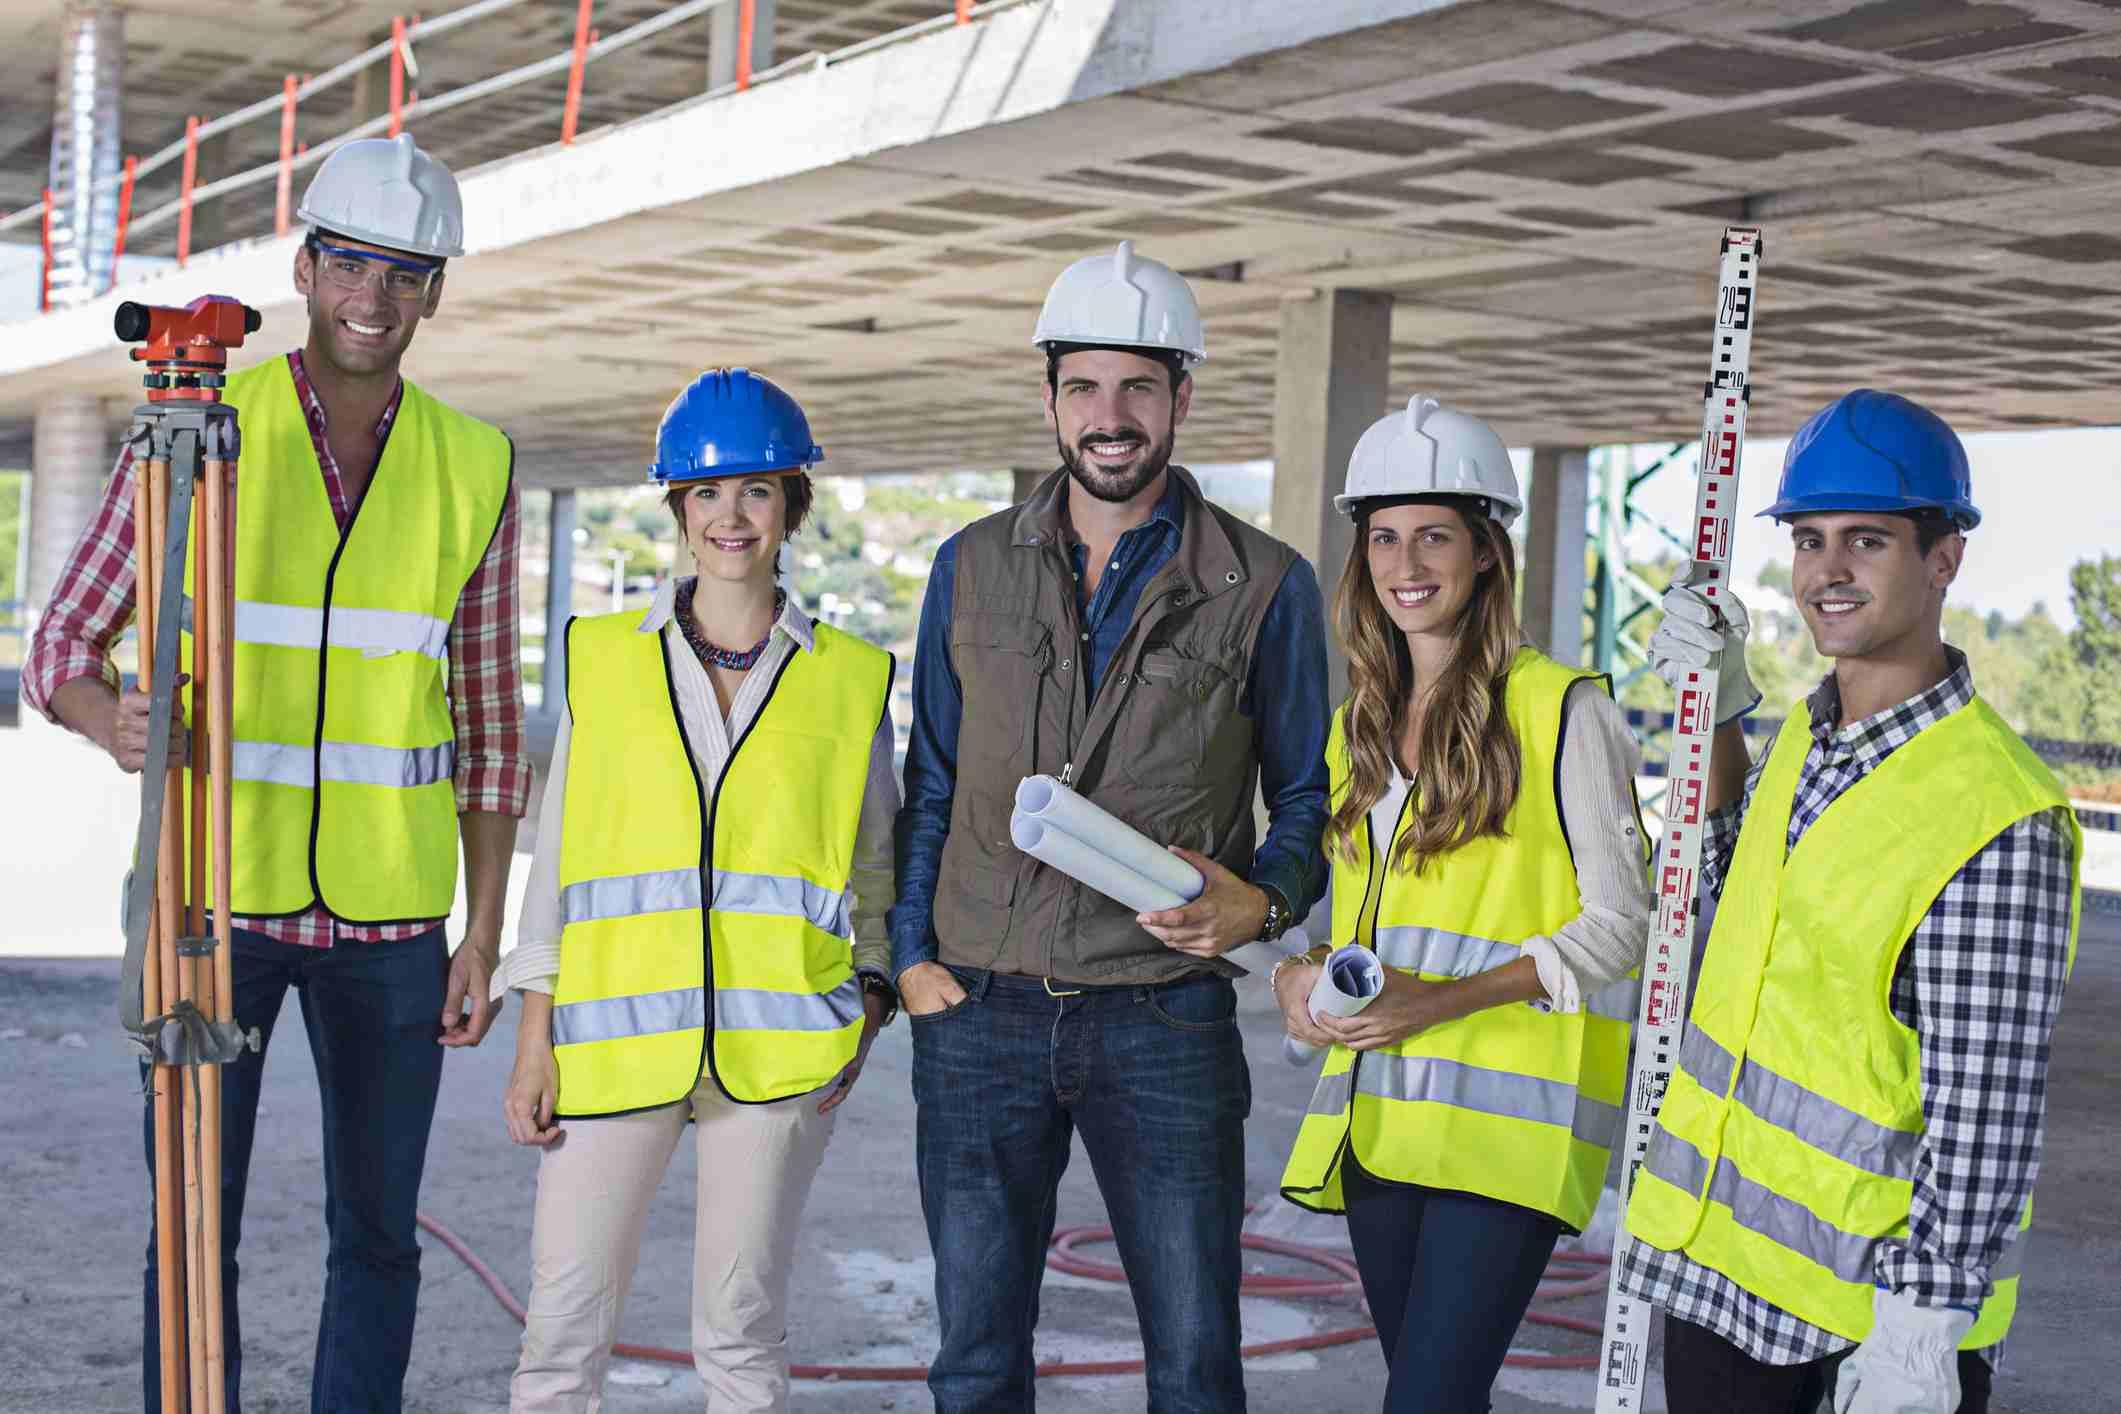helmet: (1760, 385, 1974, 529), (653, 363, 819, 489), (301, 137, 475, 257), (1338, 401, 1520, 513), (1045, 248, 1203, 363)
